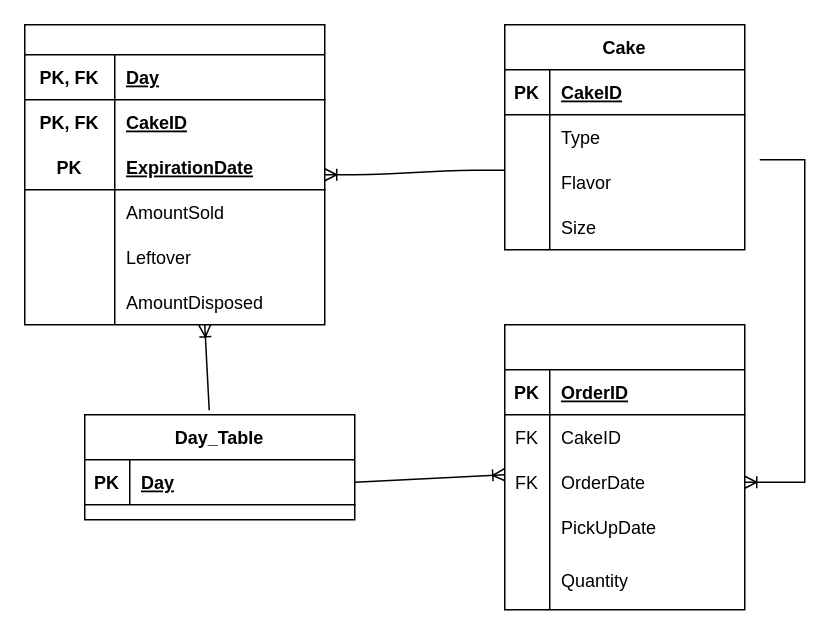
The diagram is 830 pixels wide and 635 high, and some of its shapes have lost their labels. Here are the shapes that lost their labels. From the top down, the box of each, then its label:
(23, 23, 325, 325): Day_Stock
(503, 323, 745, 610): CakeOrder
